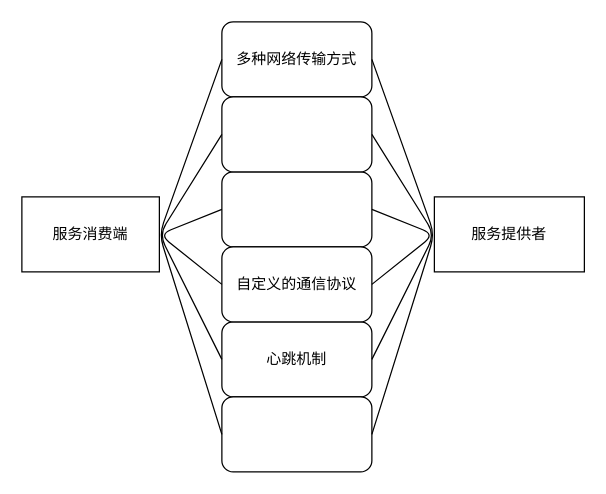
Some shapes in this 606 by 494 pixel diagram are drawn without their labels. The box of each missing label's shape, as (x1, y1, x2, y2) in pixels:
多种序列化算法: (221, 96, 372, 172)
多种负载均衡算法: (221, 171, 372, 247)
注册中心: (221, 396, 372, 472)
